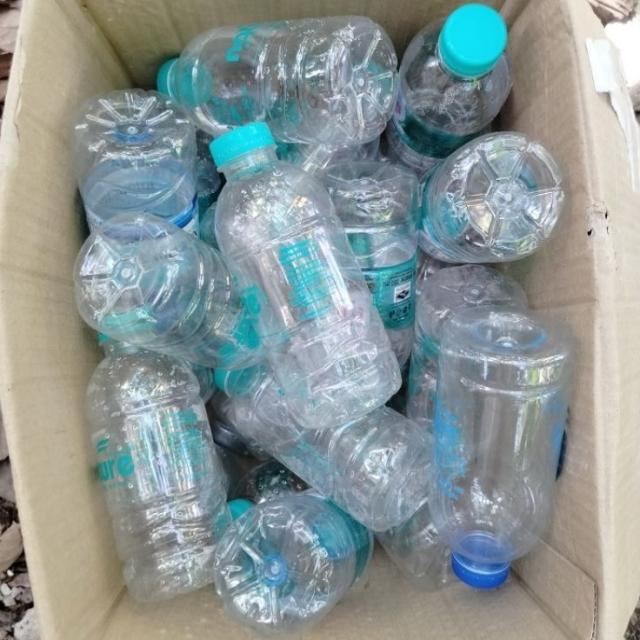plastik: (210, 124, 401, 428), (430, 308, 574, 588), (85, 336, 230, 601), (215, 362, 431, 531), (161, 16, 398, 144), (74, 212, 264, 368), (215, 492, 372, 633), (386, 4, 512, 175), (322, 162, 418, 366), (420, 132, 565, 263), (72, 89, 198, 234)
